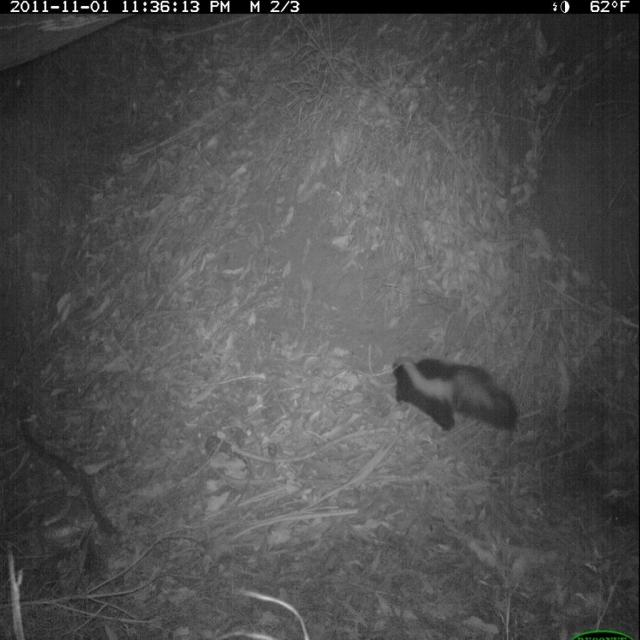skunk: (388, 342, 528, 445)
